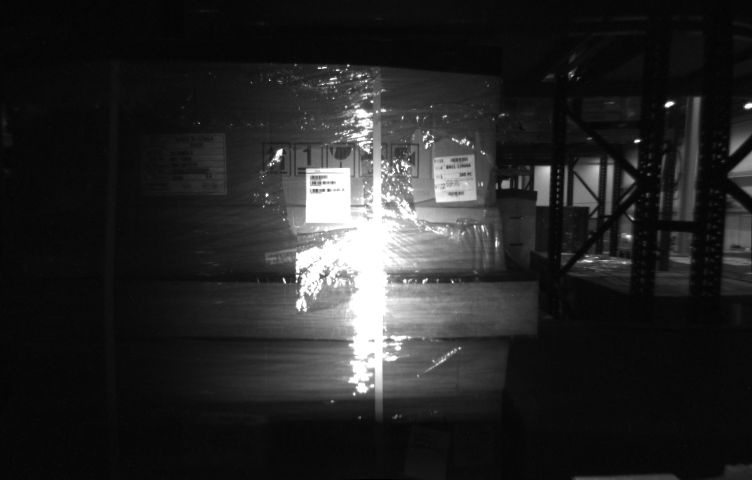True Barcode: (431, 154, 477, 202)
